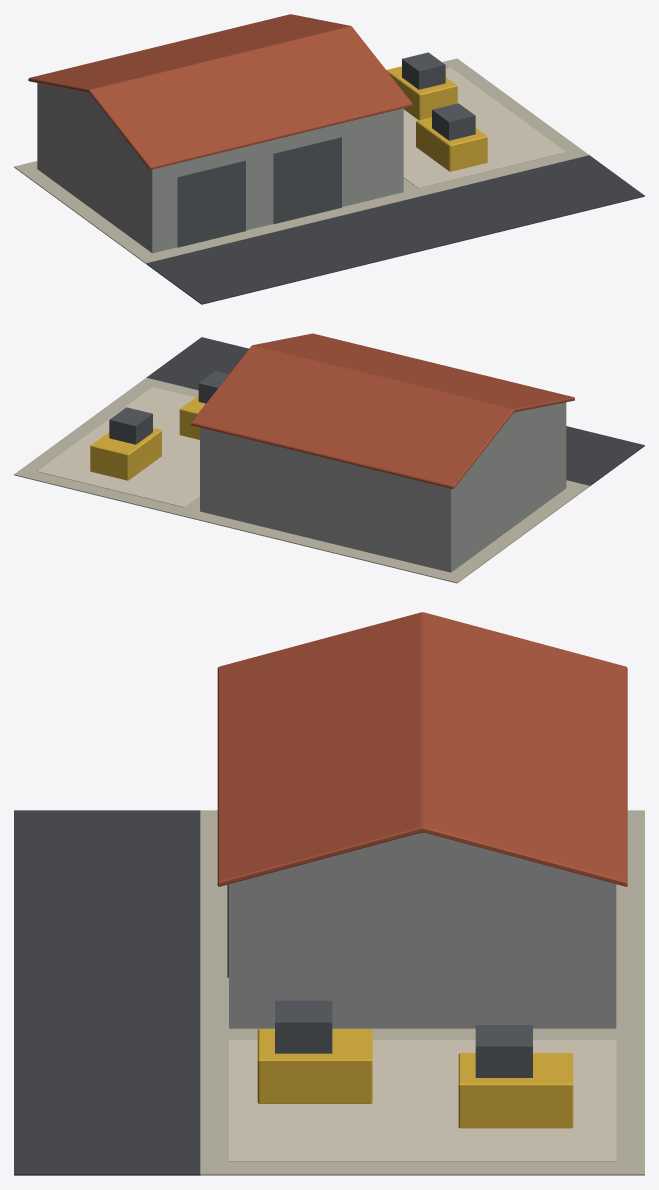
The model's file is site_workshop.glb.
3 views of the same model, one above another, from view 1: azimuth 30°, elevation 25°; view 2: azimuth 150°, elevation 25°; view 3: azimuth 270°, elevation 25° (orthographic). The views are drawn at different scales.
Visible parts, largest first — view 1: site_workshop; view 2: site_workshop; view 3: site_workshop.
Part boxes in pixels (bbox=[...]): site_workshop: bbox=[14, 14, 644, 304]; site_workshop: bbox=[14, 333, 644, 583]; site_workshop: bbox=[14, 612, 644, 1175].
Size of the model in its own units: 30 by 7.99 by 22.
